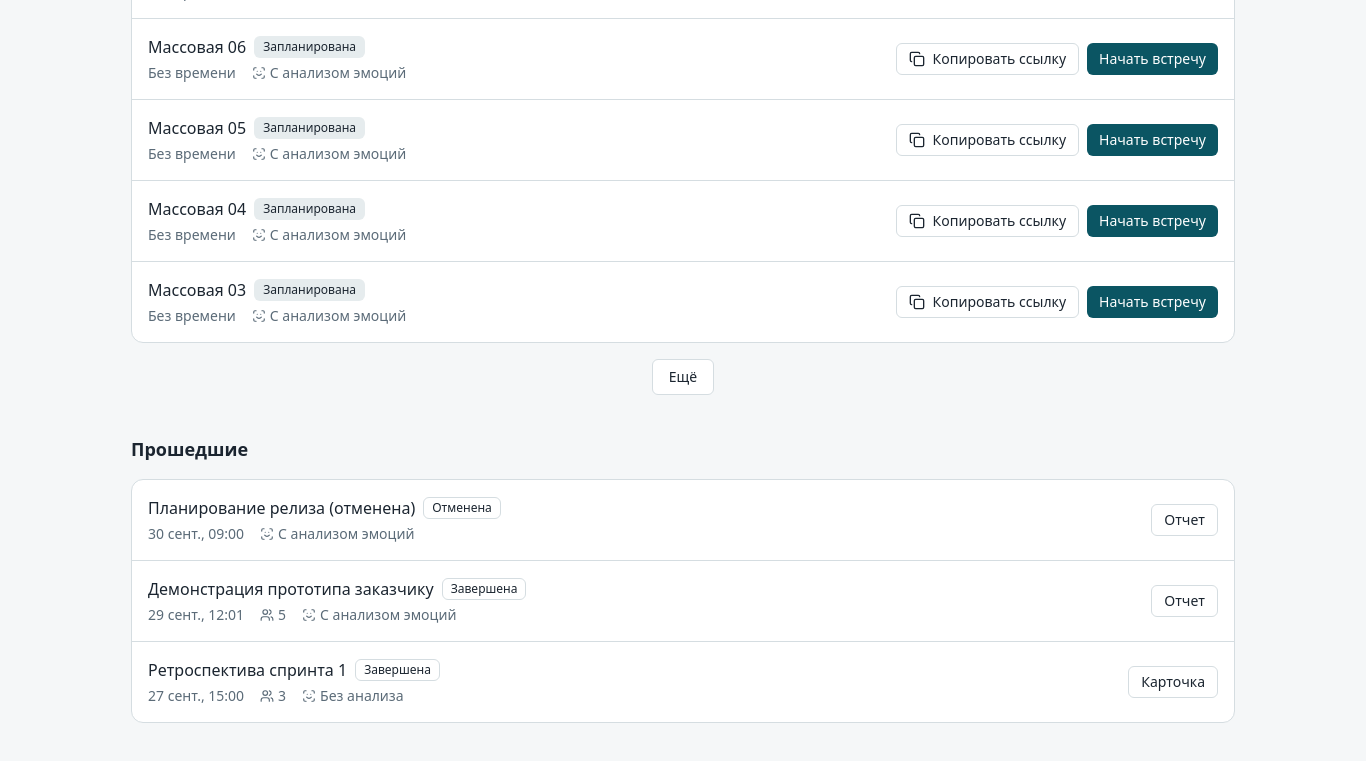
Test: главная организатора › «Ещё» в разделе подгружает его страницу по курсору, второй раздел не трогает
The image size is (1366, 761).
(page scrolled)
Expected: the link "Ретроспектива спринта 1" is shown, [148,658,347,682]
Click the button "Ещё" at (683, 377), box [652,359,714,395]
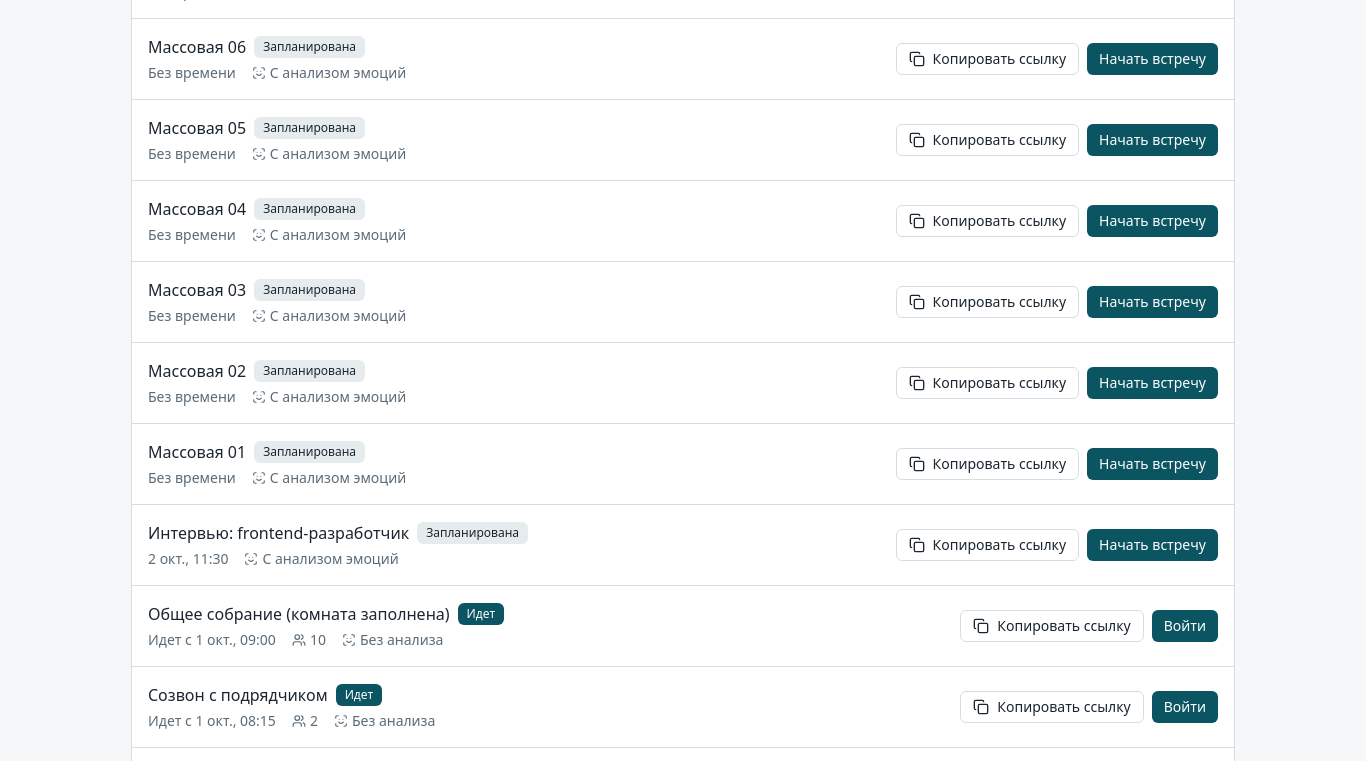
Expected: the button "Ещё" is gone
